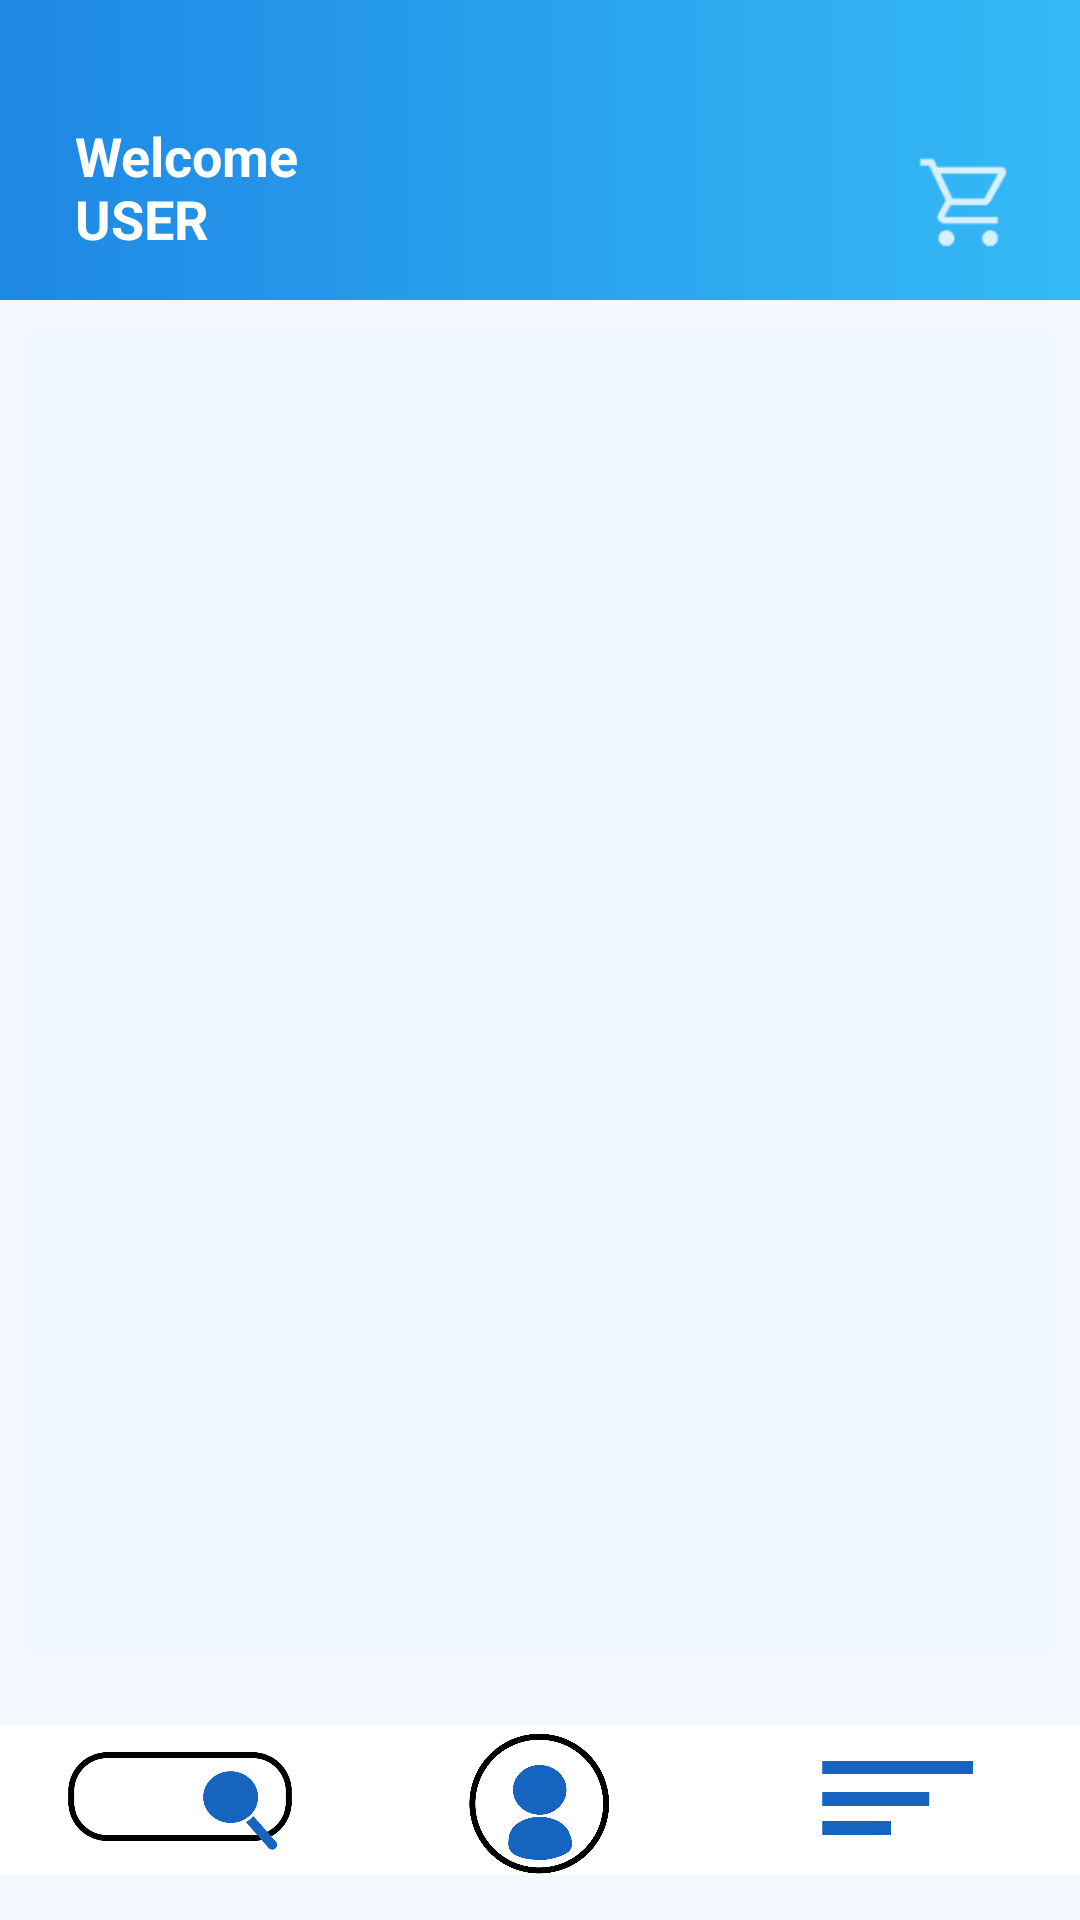

Icon click points for this 1080w x 1920h phone screenshot, format point (x, y):
acc: point (539, 1804)
cart: point (963, 202)
search: point (180, 1801)
sort: point (897, 1798)
